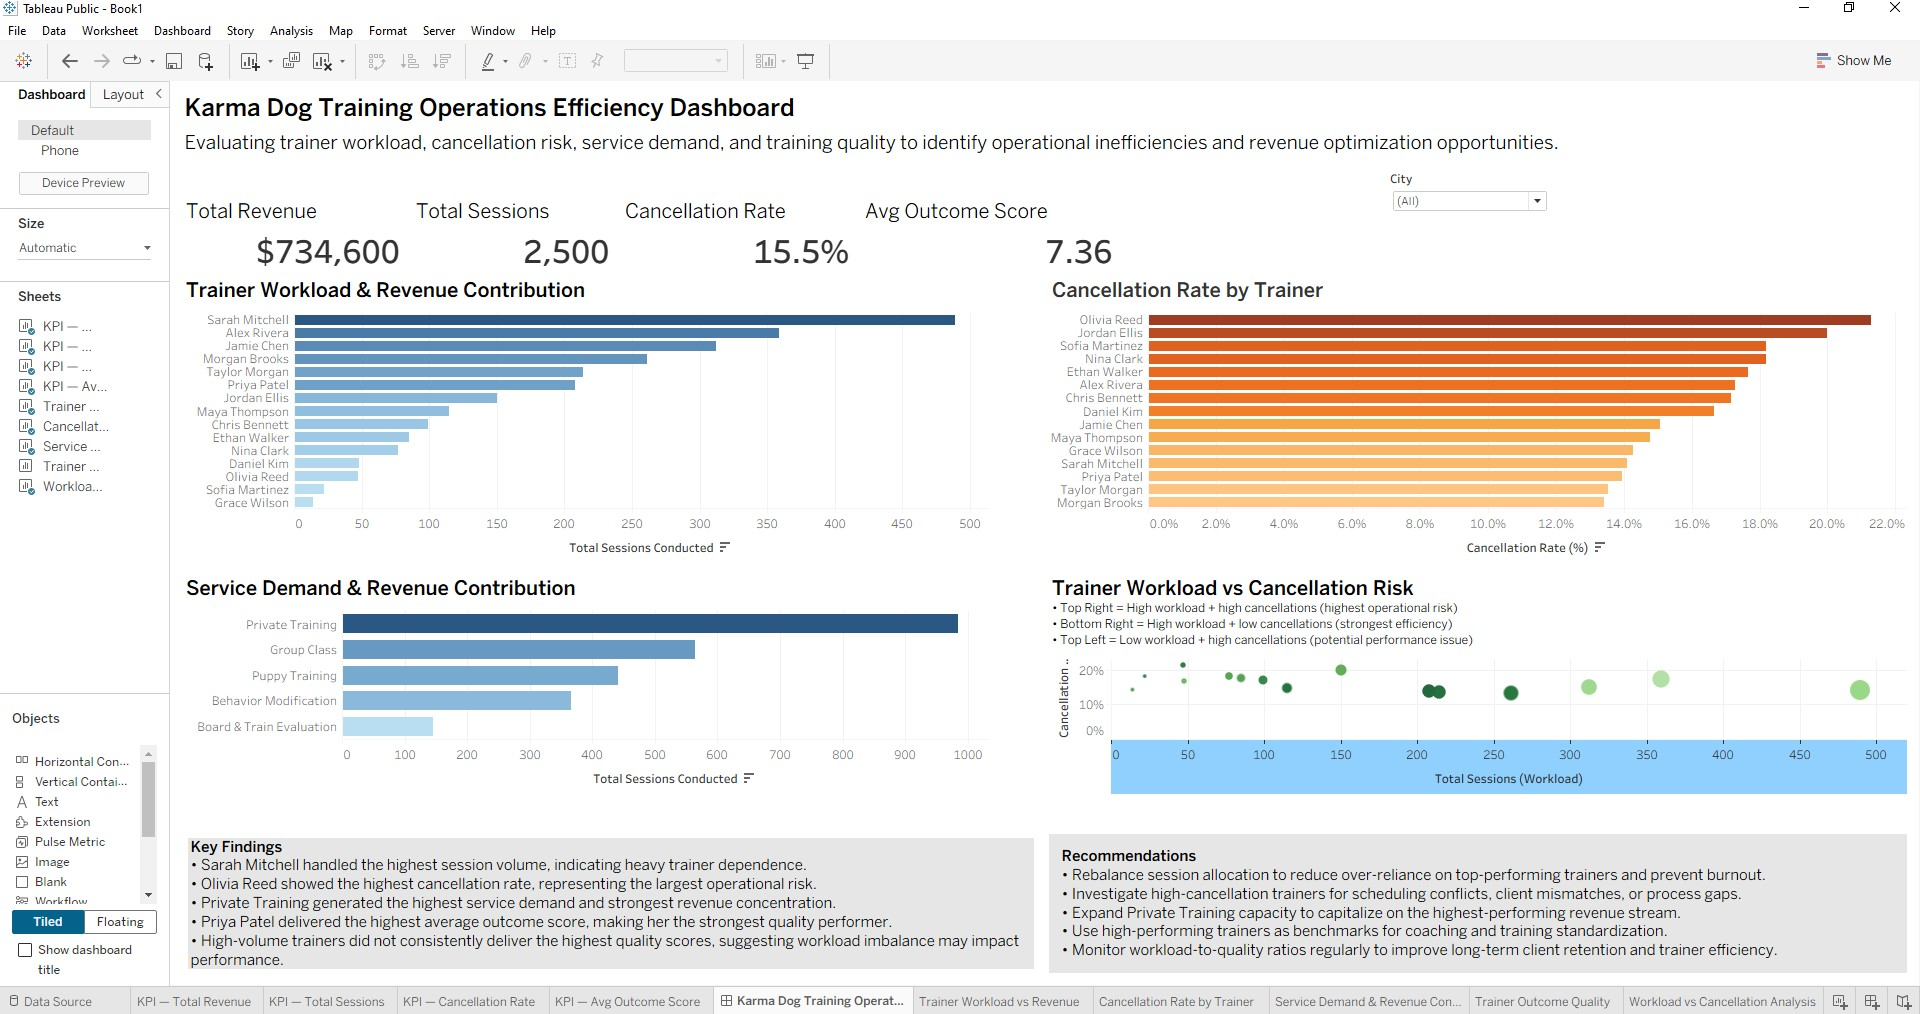

This screenshot's page, from the dashboard's own definition file:
{"tool":"tableau","page":{"name":"Karma Dog Training Operations Efficiency Dashboard","canvas":[1000,1000],"units":"permille","ordinal":0},"visuals":[{"type":"title","box":[4.6,8.8,990.9,40.9]},{"type":"text","box":[4.6,49.8,990.9,35.4]},{"type":"blank","box":[4.6,85.2,990.9,35.4]},{"type":"filter","title":"Trainer Workload vs Revenue","param":"[federated.17lbht10bmhf2f18vsfe81daa5sm].[none:city:nk]","box":[697.5,98.5,91.5,48.7]},{"type":"worksheet","title":"KPI — Total Revenue","mark":"Automatic","box":[4.6,120.6,131.5,88.5]},{"type":"worksheet","title":"KPI — Total Sessions","mark":"Automatic","box":[136.1,120.6,119.5,88.5]},{"type":"worksheet","title":"KPI — Cancellation Rate","mark":"Automatic","box":[255.6,120.6,137.2,88.5]},{"type":"worksheet","title":"KPI — Avg Outcome Score","mark":"Automatic","box":[392.8,120.6,150.4,88.5]},{"type":"worksheet","title":"Trainer Workload vs Revenue","mark":"Automatic","rows":["trainer_name"],"cols":["session_id"],"box":[4.6,209,465.7,329.7]},{"type":"blank","box":[470.3,209,29.6,307.4]},{"type":"worksheet","title":"Cancellation Rate by Trainer","mark":"Automatic","rows":["trainer_name"],"cols":["Calculation_1254286853480448"],"box":[499.9,209,495.5,329.7]},{"type":"blank","box":[470.3,516.5,29.6,276.7]},{"type":"worksheet","title":"Service Demand & Revenue Contribution","mark":"Automatic","rows":["service_type"],"cols":["session_id"],"box":[4.6,538.7,465.7,254.4]},{"type":"worksheet","title":"Workload vs Cancellation Analysis","mark":"Circle","rows":["Calculation_1254286853480448"],"cols":["session_id"],"box":[499.9,538.7,495.5,254.4]},{"type":"blank","box":[4.6,793.1,990.9,35.4]},{"type":"text","box":[4.6,828.5,495.4,162.6]},{"type":"text","box":[500,828.5,495.4,162.6]}]}

Visuals, with their boxes on the dashboard's canvas, which has no fixed pixel size, in thousandths of its width and height (x1, y1, x2, y2). These are canvas units, not pixel positions in the 1920x1014 screenshot, which may show the page scaled, cropped or inside an application window:
title: crop(5, 9, 996, 50)
text: crop(5, 50, 996, 85)
blank: crop(5, 85, 996, 121)
"Trainer Workload vs Revenue" filter: crop(698, 98, 789, 147)
"KPI — Total Revenue" worksheet: crop(5, 121, 136, 209)
"KPI — Total Sessions" worksheet: crop(136, 121, 256, 209)
"KPI — Cancellation Rate" worksheet: crop(256, 121, 393, 209)
"KPI — Avg Outcome Score" worksheet: crop(393, 121, 543, 209)
"Trainer Workload vs Revenue" worksheet: crop(5, 209, 470, 539)
blank: crop(470, 209, 500, 516)
"Cancellation Rate by Trainer" worksheet: crop(500, 209, 995, 539)
blank: crop(470, 516, 500, 793)
"Service Demand & Revenue Contribution" worksheet: crop(5, 539, 470, 793)
"Workload vs Cancellation Analysis" worksheet (Circle marks): crop(500, 539, 995, 793)
blank: crop(5, 793, 996, 828)
text: crop(5, 828, 500, 991)
text: crop(500, 828, 995, 991)
